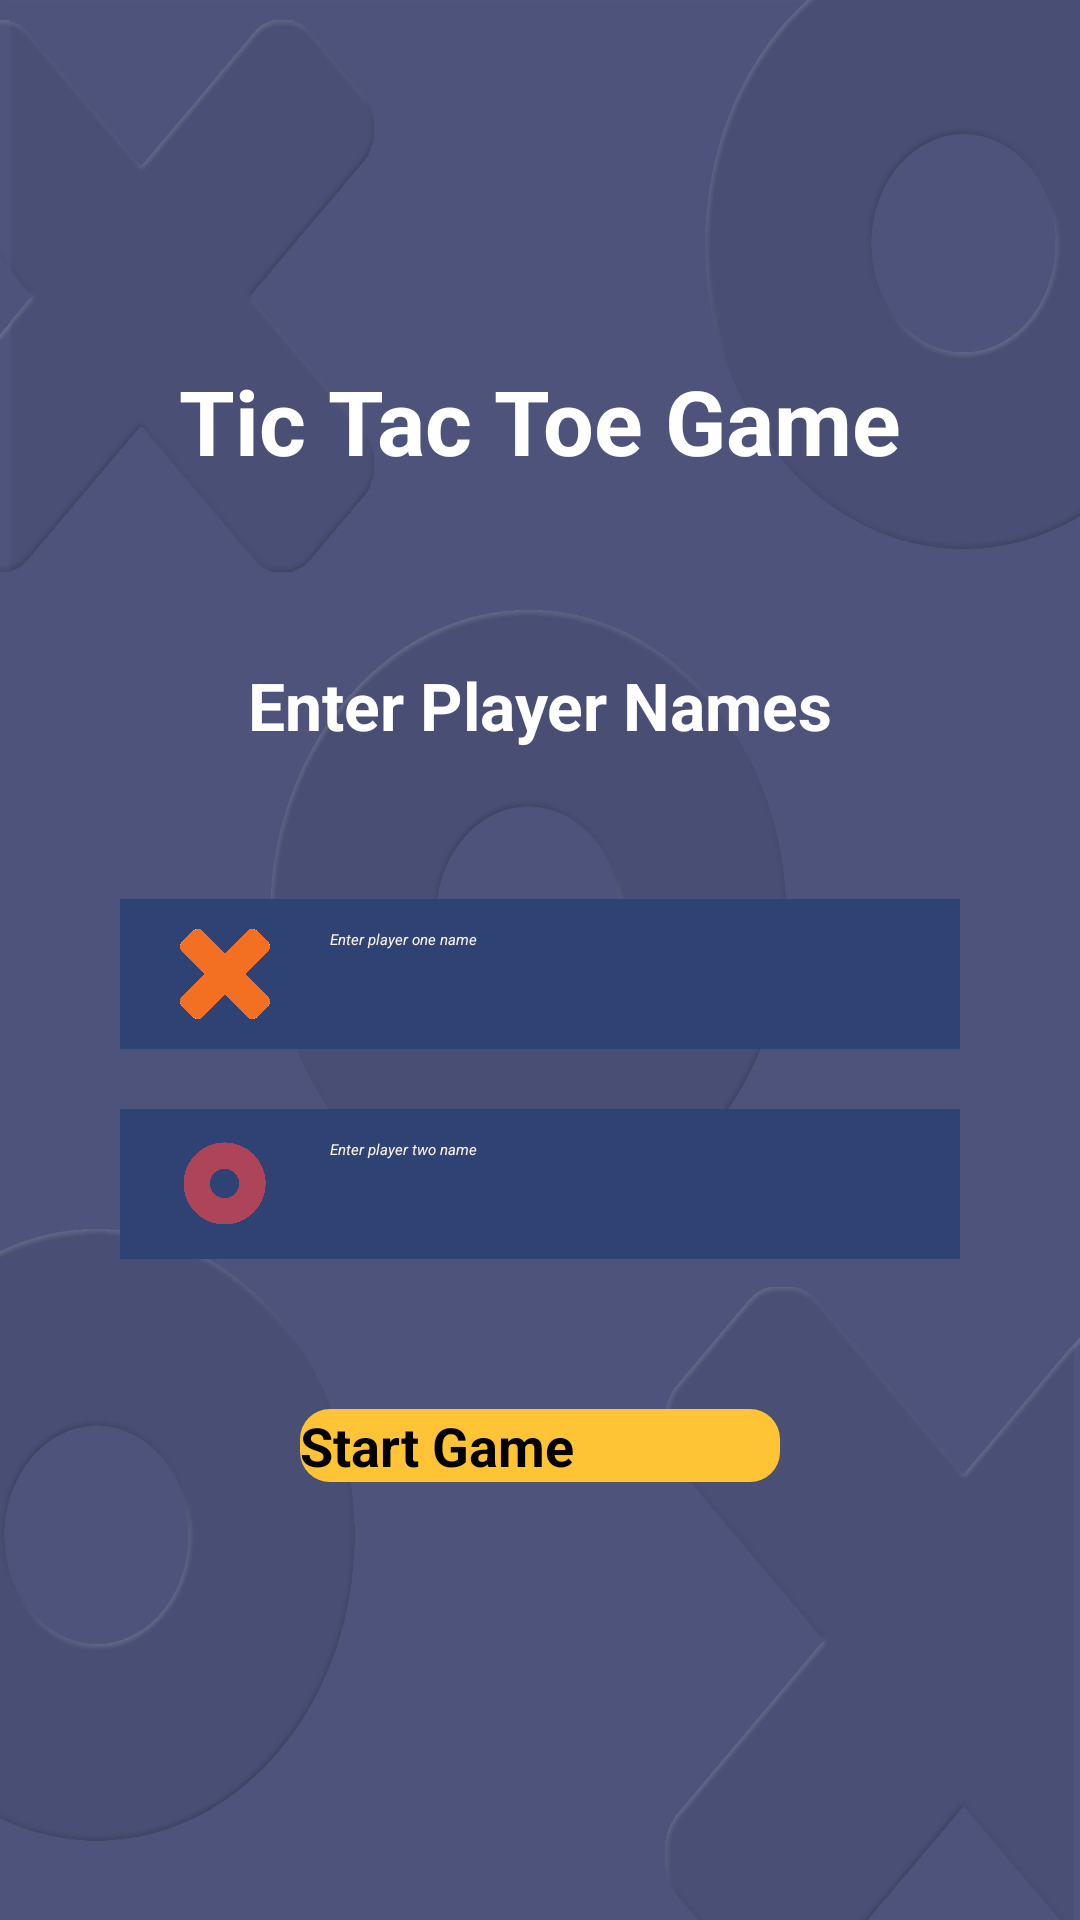

Named icons in this screenshot (1080px×1920px) and their centers, (x=x, y=y):
zero: (x=225, y=1183)
